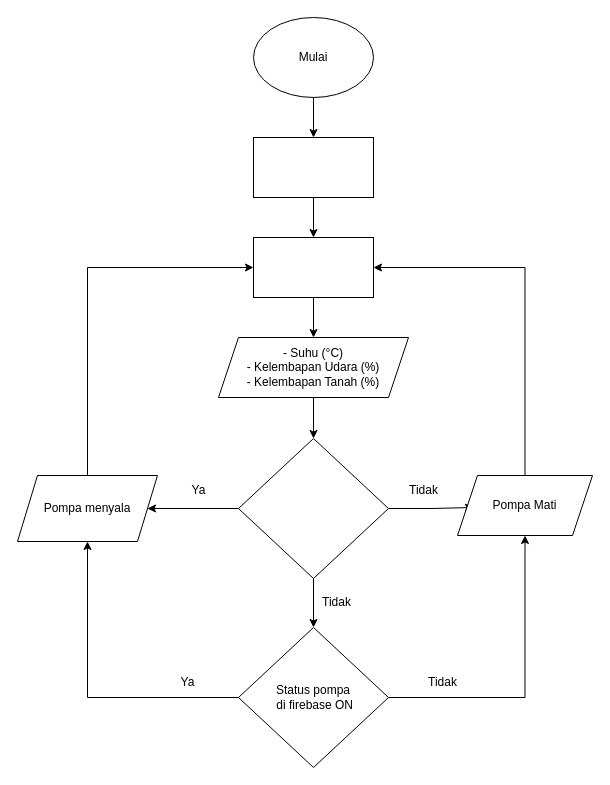
The diagram is 610 pixels wide and 785 high, and some of its shapes have lost their labels. The shapes that lost their labels are listed below. From the top down, each one's centre as x and y in pixels, then its label:
At (313,167): "Inisialisasi Program".
At (313,267): "Membaca nilai soil sensor & DHT".
At (313,508): "Nilai kelembapan tanah < 20 %".
